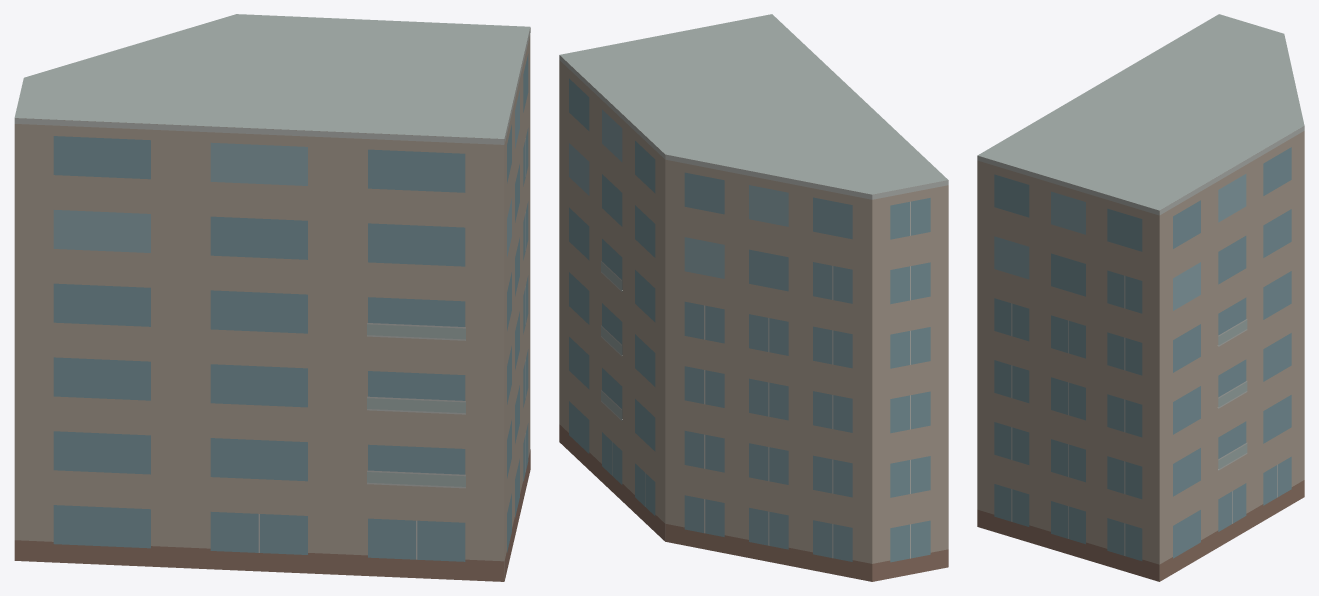
File: survey-upis-32755230.glb
The picture shows the model from 3 angles, left to right: view 1: azimuth 30°, elevation 25°; view 2: azimuth 150°, elevation 25°; view 3: azimuth 270°, elevation 25°; orthographic projection. The views are drawn at different scales.
Parts seen in each view (by area): view 1: survey-upis-32755230.tmp; view 2: survey-upis-32755230.tmp; view 3: survey-upis-32755230.tmp.
Boxes of the visible parts, x1=… form: survey-upis-32755230.tmp: x1=14, y1=14, x2=530, y2=581; survey-upis-32755230.tmp: x1=559, y1=14, x2=948, y2=581; survey-upis-32755230.tmp: x1=977, y1=14, x2=1304, y2=581.
Bounding box in the file's own units: 20.79 × 18.3 × 14.63.
